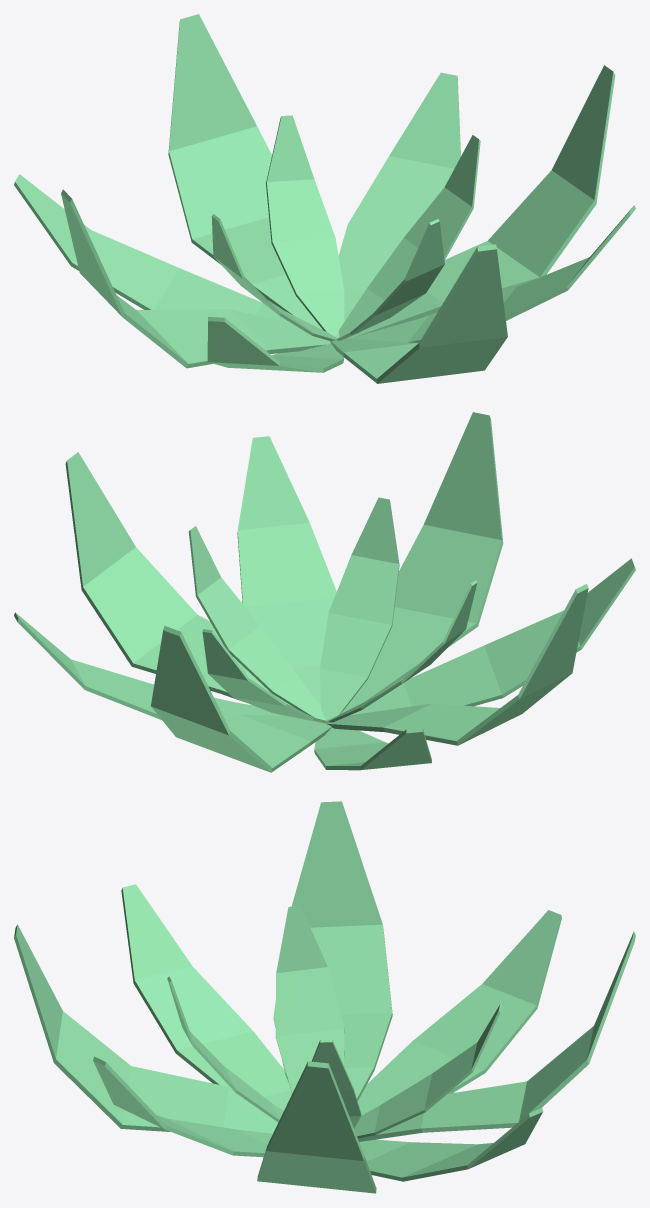
Rendered from PlanteGrasse1.fbx.
The picture shows the model from 3 angles, top to bottom: view 1: azimuth 30°, elevation 25°; view 2: azimuth 150°, elevation 25°; view 3: azimuth 270°, elevation 25°; orthographic projection. The views are drawn at different scales.
Visible parts, largest first — view 1: PlanteGrasse; view 2: PlanteGrasse; view 3: PlanteGrasse.
Part boxes in pixels (x1,y1,x2,y2): PlanteGrasse: (14, 14, 635, 383); PlanteGrasse: (14, 412, 635, 772); PlanteGrasse: (14, 801, 635, 1193).
Size of the model in its own units: 101 by 38.2 by 101.
